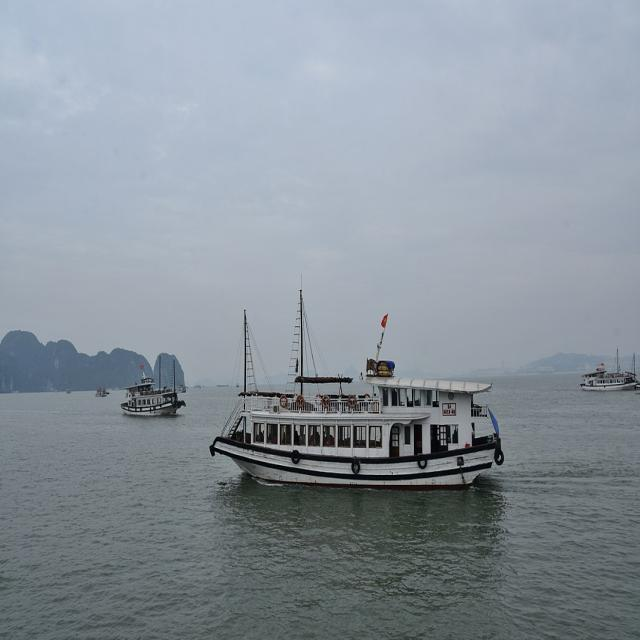passenger ship: (200, 316, 516, 502), (105, 358, 177, 438), (584, 346, 634, 388)
